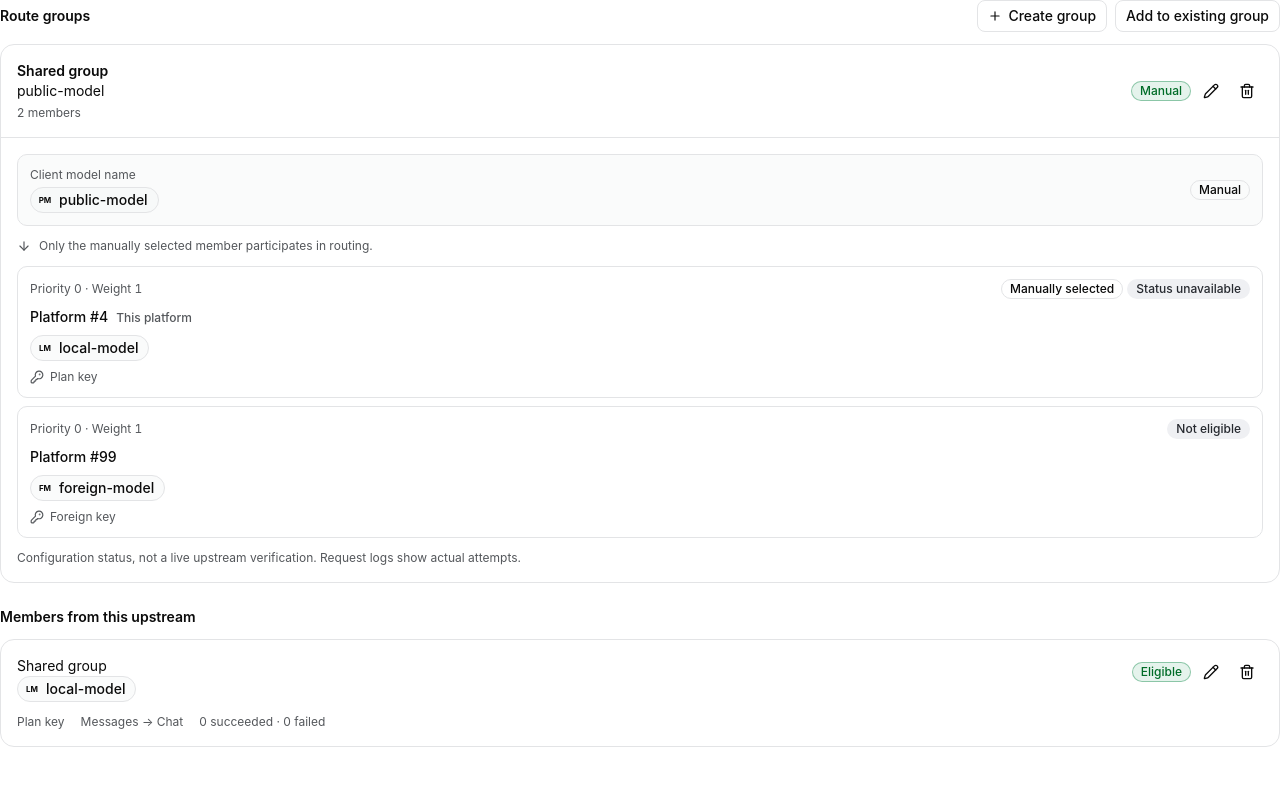
it: upstream route group management › keeps creation explicit when no authorized pairs exist and shows a retry on catalog failure
Expected: the button named "Edit group Shared group" is shown, [1195,75,1227,107]
Click the button "Create group" at x=1042, y=16, box [977,0,1107,32]
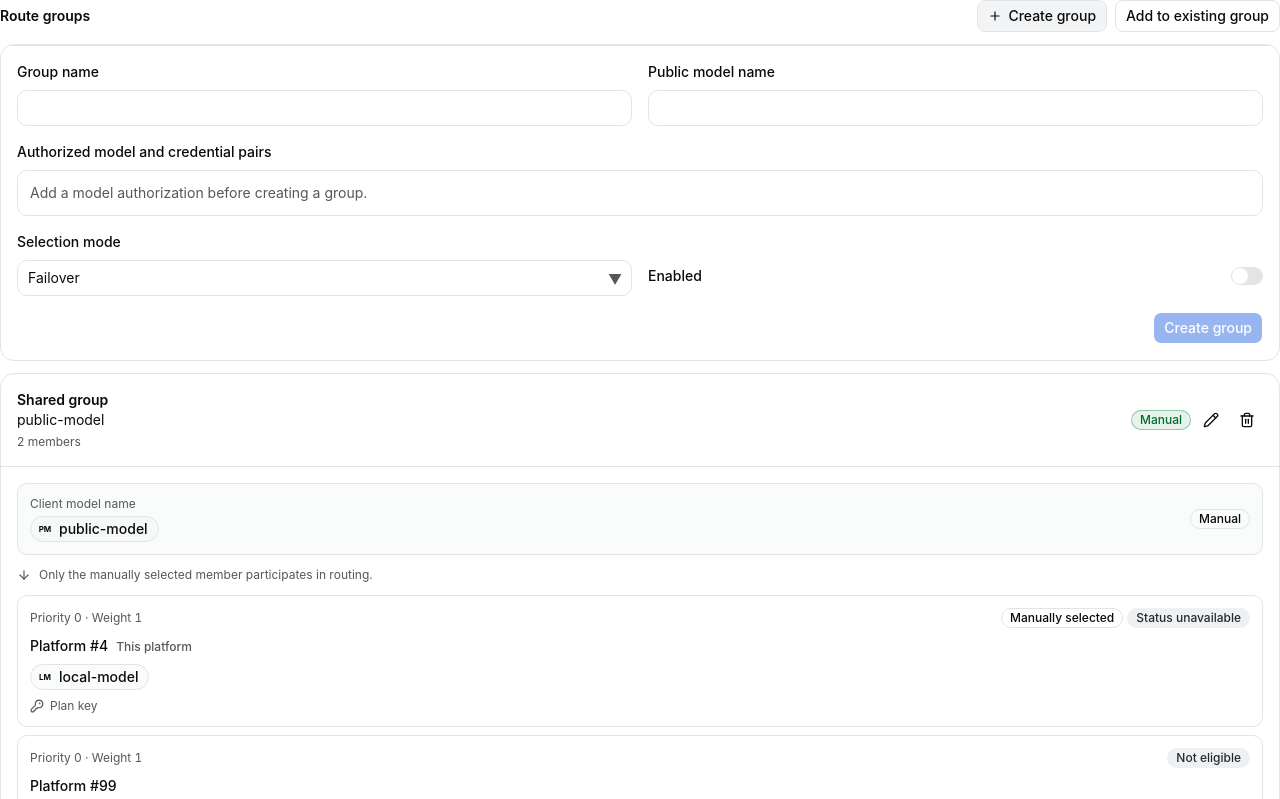
Expected: the text "Add a model authorization before creating a group." is shown, [30,184,367,201]
Type "Empty" into the field labelled "Group name" at x=324, y=108, box [17,90,632,126]
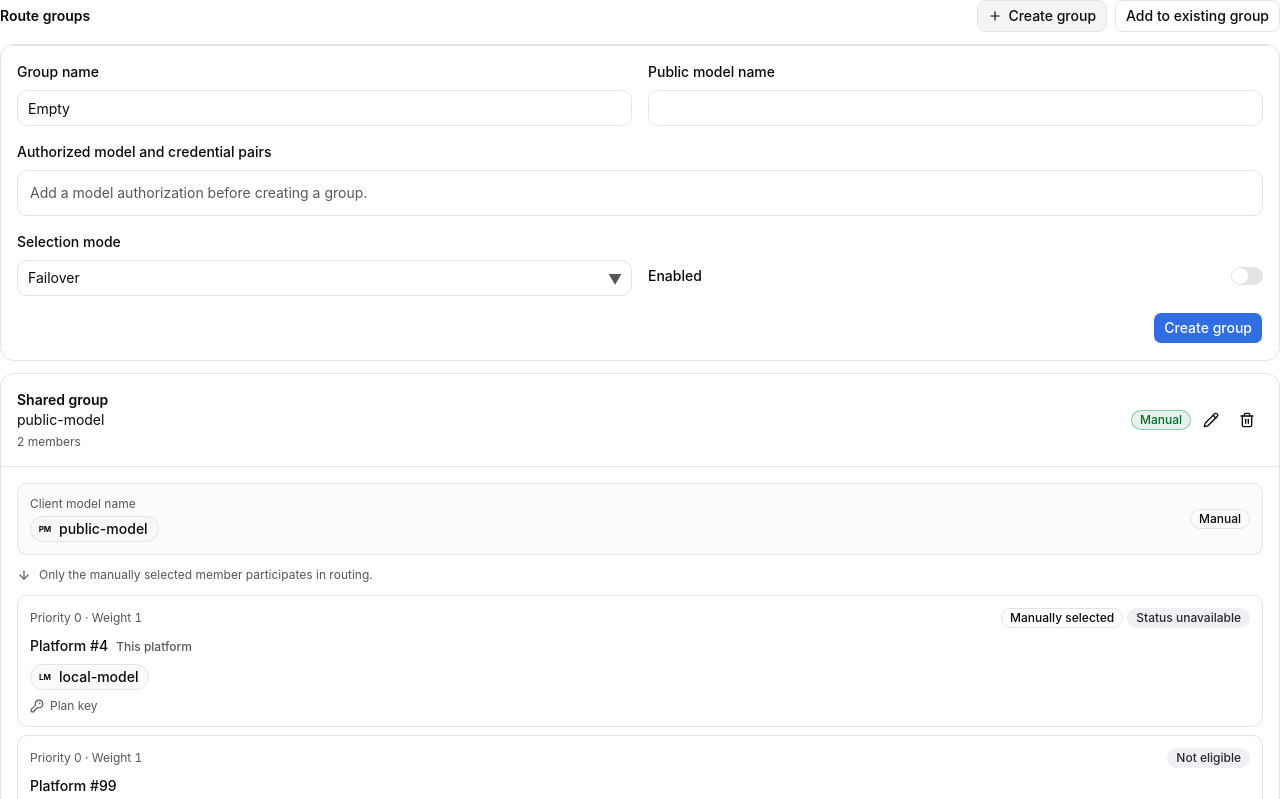
Type "empty-public" into the field labelled "Public model name" at x=956, y=108, box [648,90,1263,126]
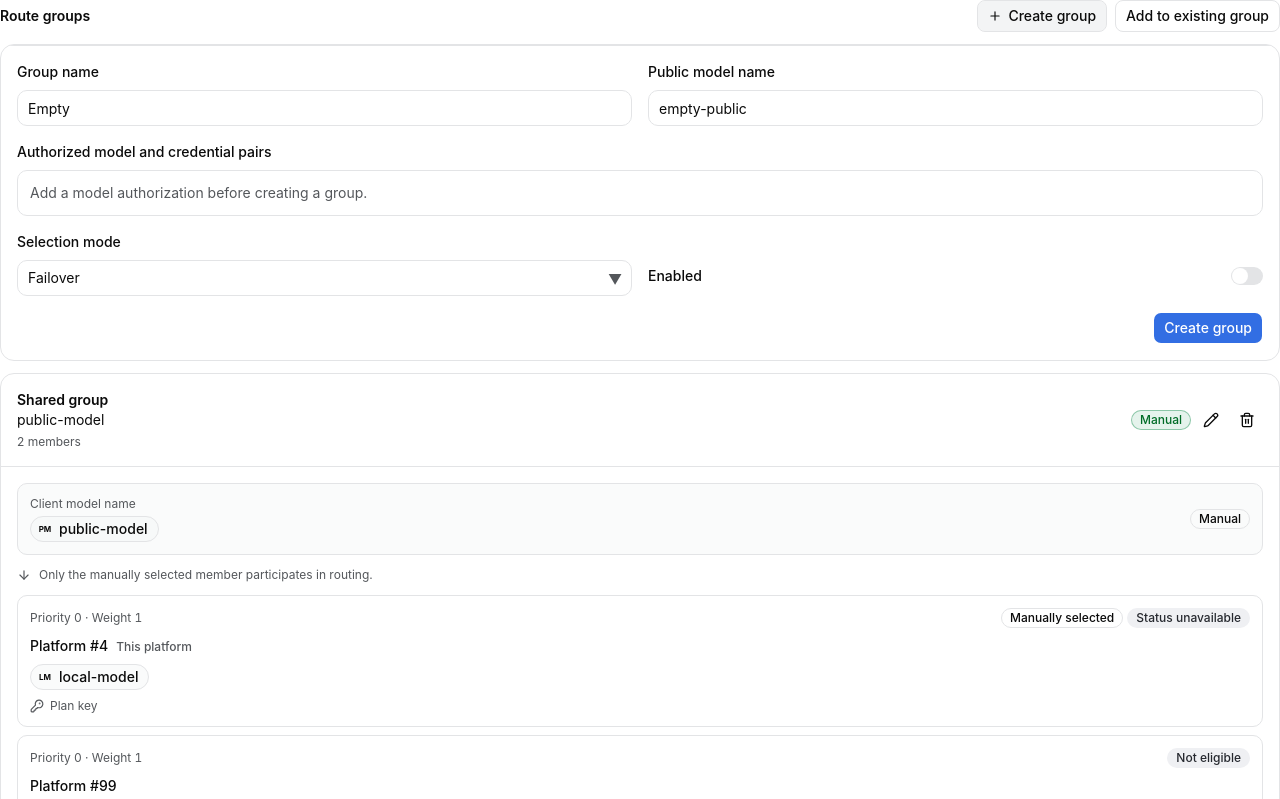
Click the 2nd button "Create group" at x=1208, y=328, box [1153,312,1263,344]
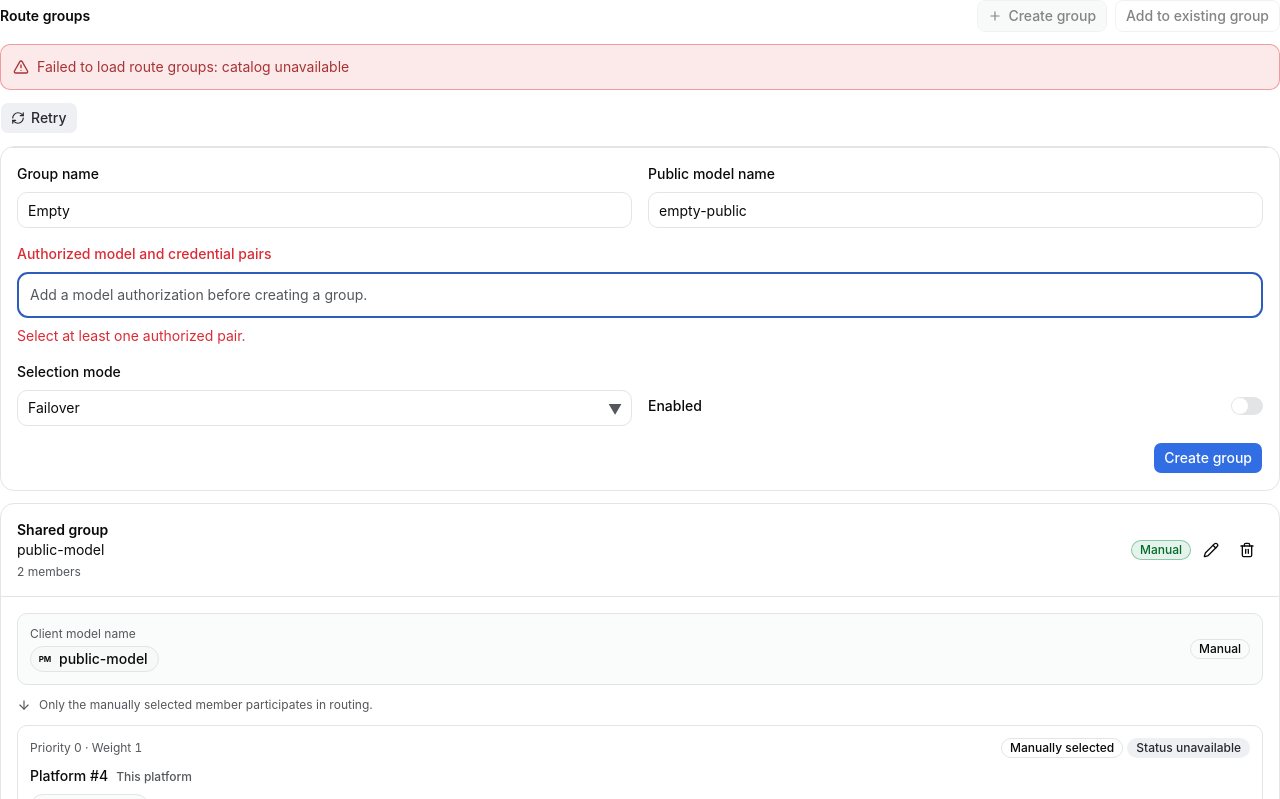
Expected: the text "Select at least one authorized pair." is shown, [17,327,246,344]
Expected: the text "Failed to load route groups: catalog unavailable" is shown, [37,57,349,77]
Expected: the button "Retry" is enabled, [0,102,78,134]
